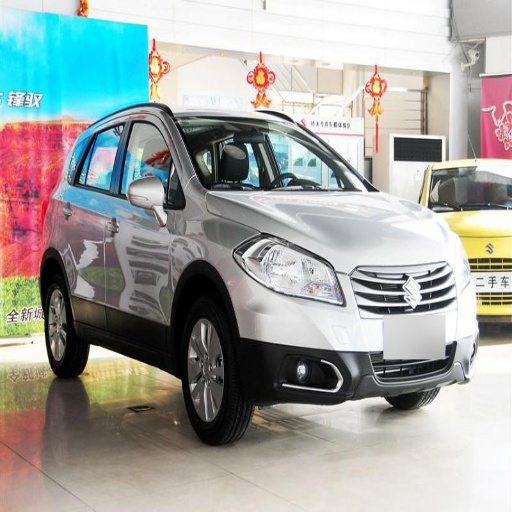front_bumper: (233, 261, 477, 403)
front_right_door: (108, 108, 178, 344)
front_right_light: (235, 233, 346, 306)
